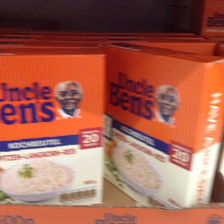rice: (101, 42, 224, 207), (1, 50, 105, 204)
